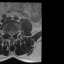CCS_stenosis: (10, 31, 12, 39)
LFS_severe_stenosis: (14, 31, 16, 36)
LLS_stenosis: (12, 31, 14, 37)
RFS_severe_stenosis: (6, 30, 8, 36)
RLS_stenosis: (8, 31, 10, 37)
